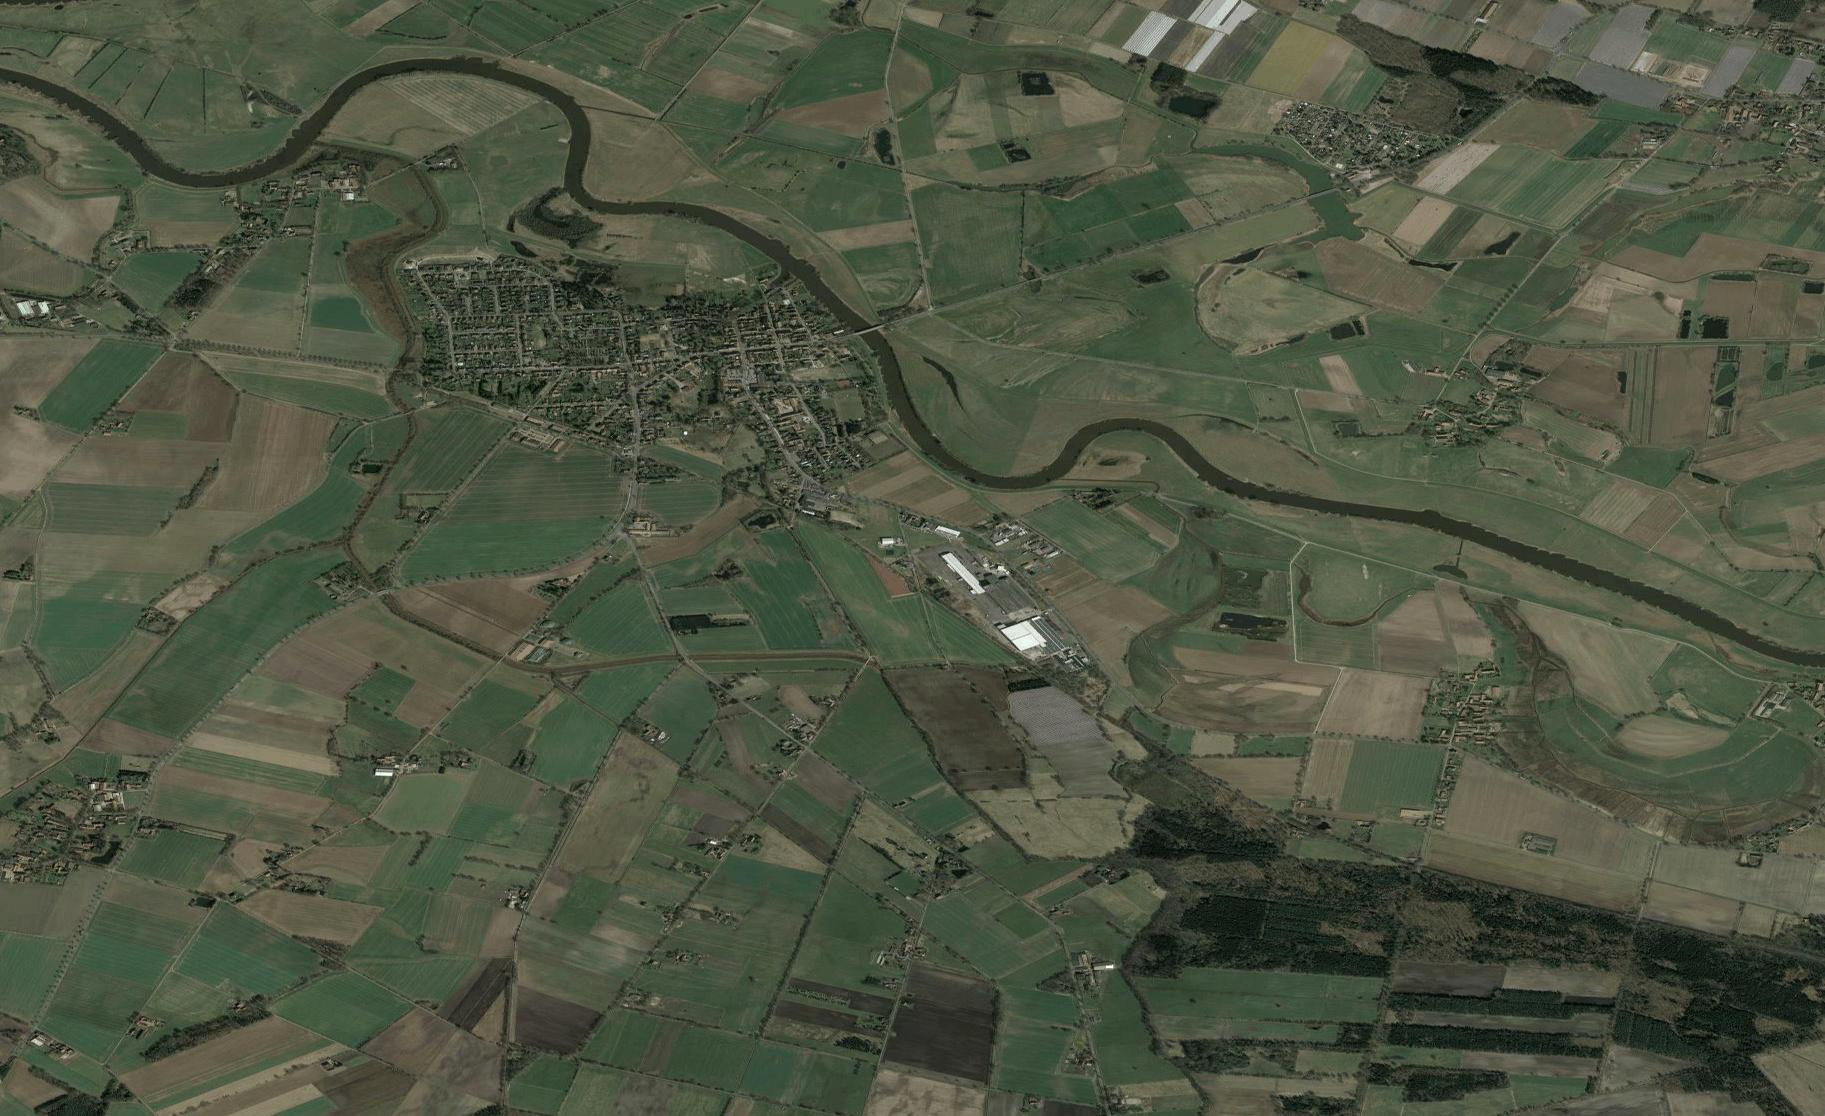bridge: (855, 321, 876, 336)
industrial: (937, 541, 1065, 670)
